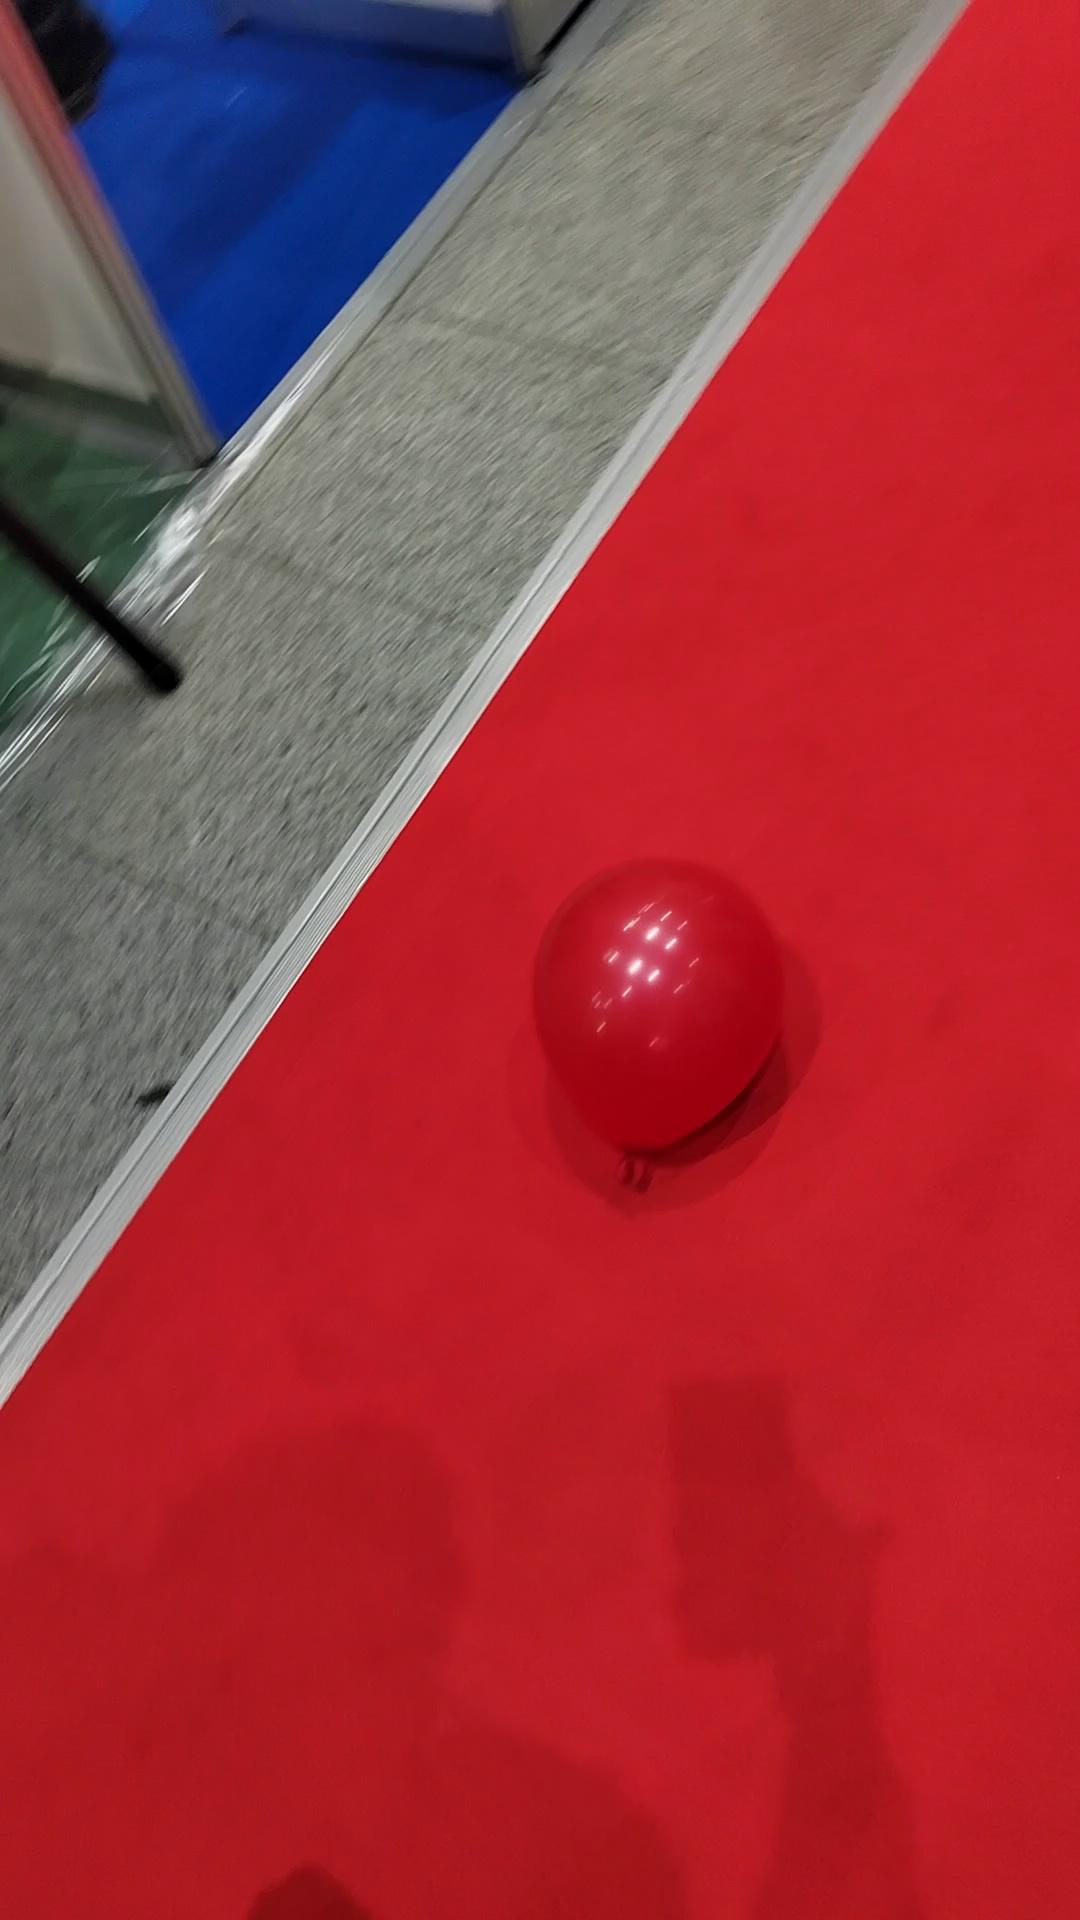red: (529, 858, 785, 1162)
